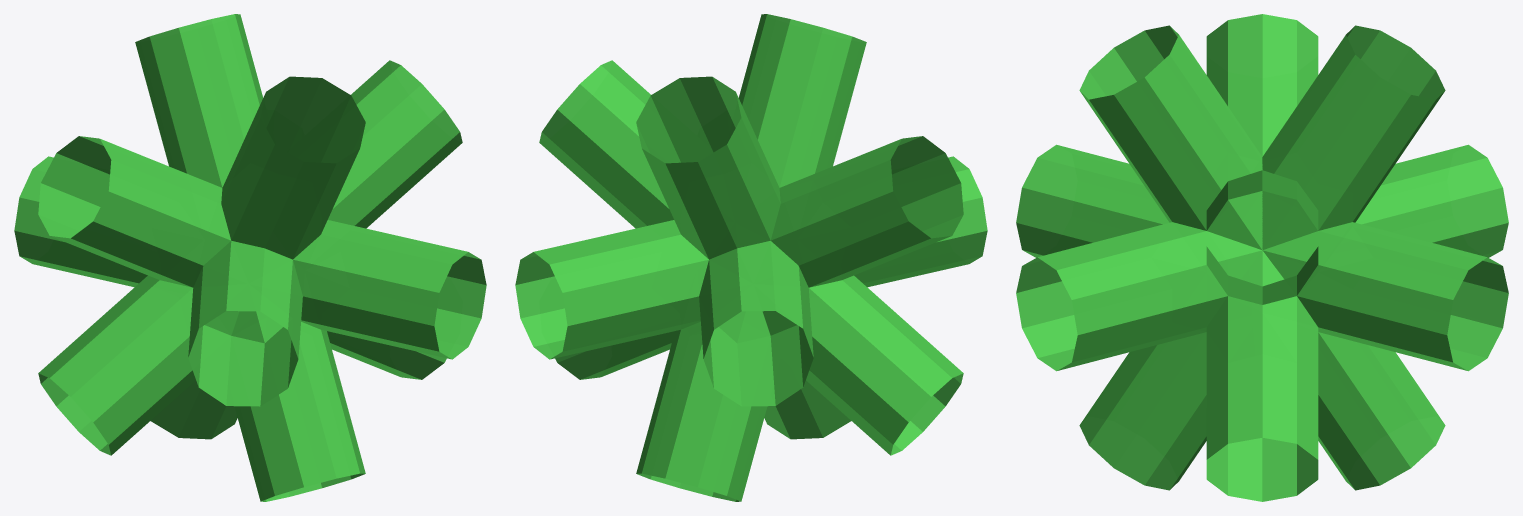
Rendered from SmallIcosihemidodecacron.obj.
The picture shows the model from 3 angles, left to right: view 1: azimuth 30°, elevation 25°; view 2: azimuth 150°, elevation 25°; view 3: azimuth 270°, elevation 25°; orthographic projection. The views are drawn at different scales.
Size of the model in its own units: 13.61 by 13.61 by 13.61.
